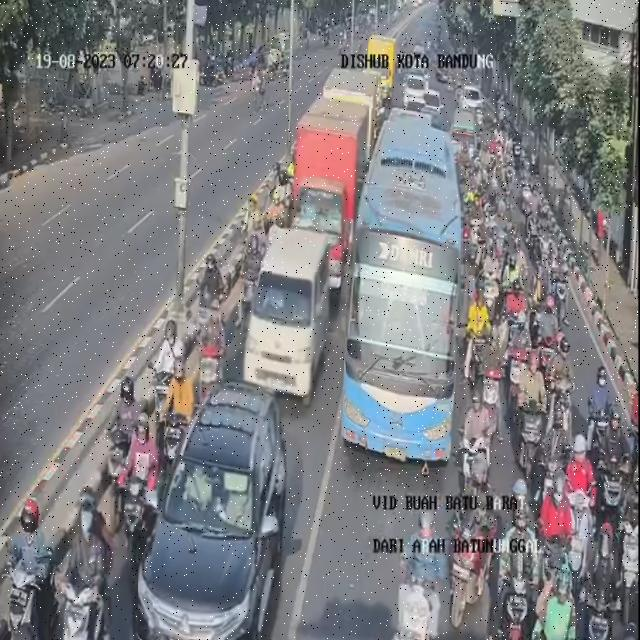bunch of motorcycle: (468, 386, 628, 640), (466, 240, 553, 381), (465, 171, 510, 243)
bus: (347, 108, 462, 436)
cars: (137, 408, 299, 639), (221, 272, 322, 459), (295, 96, 369, 272), (335, 548, 449, 639), (273, 209, 336, 339)
motorcycle: (92, 457, 138, 640), (60, 480, 104, 640), (18, 493, 59, 634), (175, 289, 210, 437), (106, 407, 142, 549), (149, 414, 187, 542), (122, 350, 155, 482), (157, 364, 192, 470), (202, 287, 226, 394), (218, 227, 244, 299), (220, 268, 242, 346), (248, 224, 268, 287), (248, 195, 263, 247), (267, 191, 284, 235)
